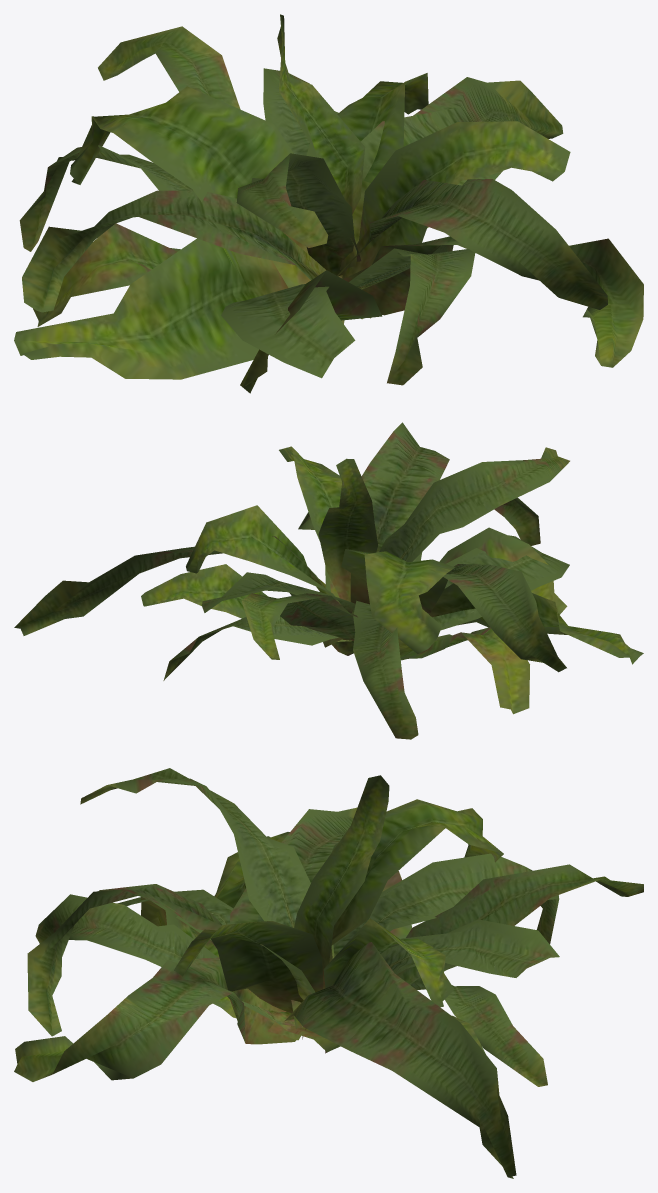
File: fern_02_c.glb
3 renders of one model, top to bottom at view 1: azimuth 30°, elevation 25°; view 2: azimuth 150°, elevation 25°; view 3: azimuth 270°, elevation 25°, orthographic. The views are drawn at different scales.
Visible parts, largest first — view 1: fern_02_c; view 2: fern_02_c; view 3: fern_02_c.
Boxes of the visible parts, x1,y1,x2,y2 form: fern_02_c: (14, 14, 643, 393); fern_02_c: (14, 422, 643, 739); fern_02_c: (14, 768, 643, 1178).
Size of the model in its own units: 0.8728 by 0.349 by 0.7502.
1 material, 1 textured.
